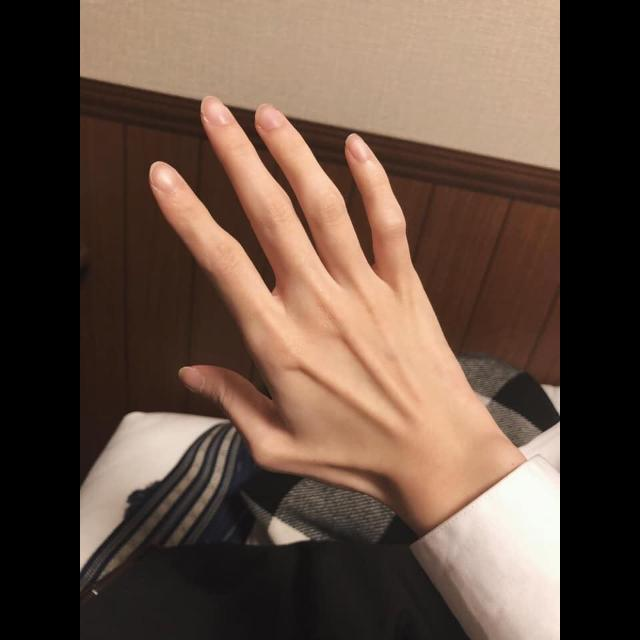bare_hand: (147, 95, 470, 501)
